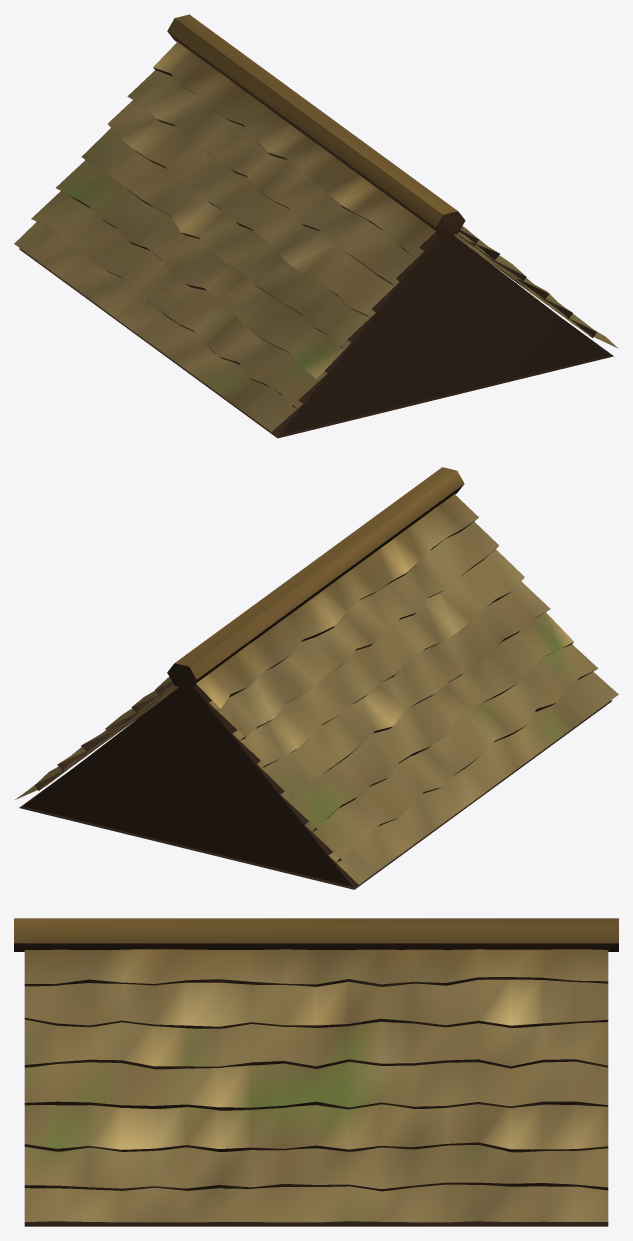
The model's file is roof_3.glb.
The picture shows the model from 3 angles, top to bottom: view 1: azimuth 30°, elevation 25°; view 2: azimuth 150°, elevation 25°; view 3: azimuth 270°, elevation 25°; orthographic projection. The views are drawn at different scales.
Parts seen in each view (by area): view 1: roof_3; view 2: roof_3; view 3: roof_3.
Boxes of the visible parts, x1=… form: roof_3: x1=14, y1=14, x2=618, y2=438; roof_3: x1=15, y1=467, x2=618, y2=889; roof_3: x1=14, y1=918, x2=618, y2=1226.
Size of the model in its own units: 5.91 by 3.04 by 7.88.
